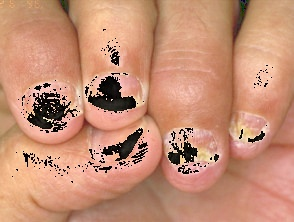Nail_psoriasis: (13, 73, 90, 141), (162, 123, 227, 180), (227, 107, 273, 154), (86, 89, 148, 119)
